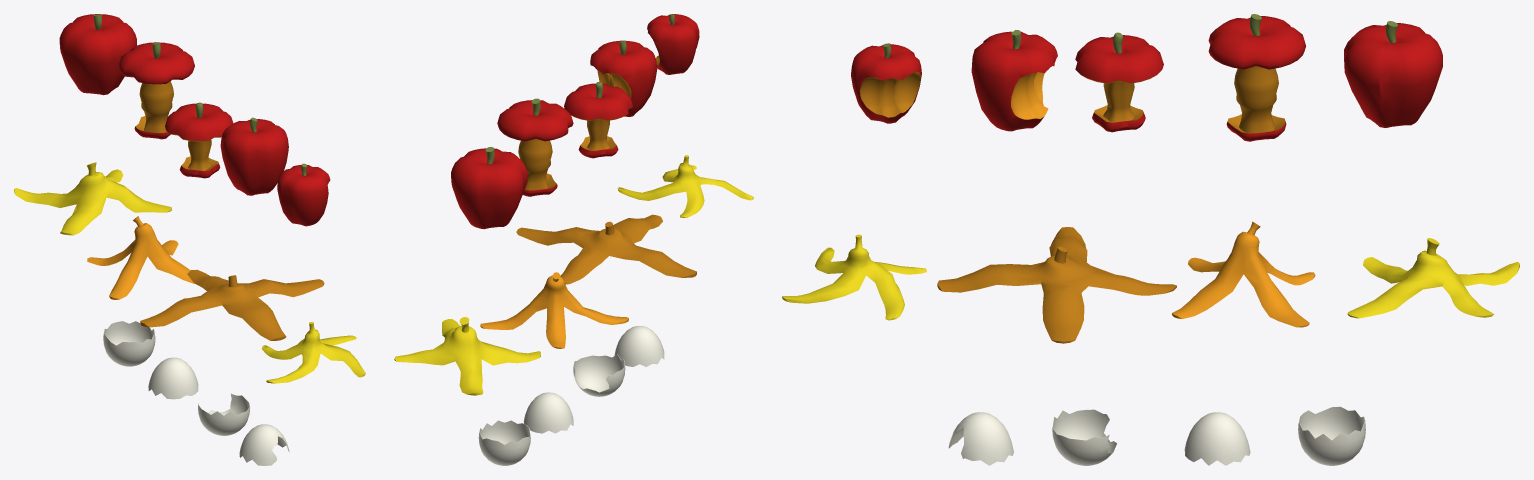
File: Compostables_FBX.fbx
3 renders of one model, left to right at view 1: azimuth 30°, elevation 25°; view 2: azimuth 150°, elevation 25°; view 3: azimuth 270°, elevation 25°, orthographic. The views are drawn at different scales.
Parts seen in each view (by area): view 1: Banana_02, Sphere.014, Manzana_02, Manzana_04, Banana_04, Manzana_03, Banana_03, Manzana_01, Banana_01, Huevon_04, Huevon_03, Huevon_01 (+1 smaller); view 2: Sphere.014, Banana_02, Manzana_04, Banana_04, Manzana_02, Manzana_03, Banana_03, Manzana_01, Banana_01, Huevon_04, Huevon_02, Huevon_03 (+1 smaller); view 3: Sphere.014, Banana_02, Manzana_04, Manzana_02, Manzana_03, Banana_03, Banana_04, Manzana_01, Banana_01, Huevon_04, Huevon_02, Huevon_03 (+1 smaller).
Boxes of the visible parts, bbox=[...] form: Banana_02: bbox=[140, 269, 324, 340]; Sphere.014: bbox=[59, 14, 136, 95]; Manzana_02: bbox=[220, 117, 288, 195]; Manzana_04: bbox=[118, 42, 194, 139]; Banana_04: bbox=[14, 162, 171, 235]; Manzana_03: bbox=[165, 102, 233, 178]; Banana_03: bbox=[87, 216, 194, 299]; Manzana_01: bbox=[277, 163, 330, 226]; Banana_01: bbox=[262, 322, 365, 383]; Huevon_04: bbox=[103, 321, 155, 366]; Huevon_03: bbox=[148, 357, 198, 399]; Huevon_01: bbox=[239, 424, 289, 465]; Sphere.014: bbox=[451, 147, 527, 229]; Banana_02: bbox=[516, 214, 696, 284]; Manzana_04: bbox=[497, 98, 573, 196]; Banana_04: bbox=[394, 317, 540, 395]; Manzana_02: bbox=[590, 40, 657, 116]; Manzana_03: bbox=[564, 81, 632, 158]; Banana_03: bbox=[480, 272, 628, 348]; Manzana_01: bbox=[647, 14, 699, 74]; Banana_01: bbox=[617, 155, 753, 217]; Huevon_04: bbox=[478, 420, 530, 465]; Huevon_02: bbox=[573, 354, 625, 396]; Huevon_03: bbox=[523, 392, 573, 433]; Sphere.014: bbox=[1344, 21, 1442, 127]; Banana_02: bbox=[937, 227, 1176, 343]; Manzana_04: bbox=[1208, 14, 1305, 141]; Manzana_02: bbox=[971, 30, 1057, 131]; Manzana_03: bbox=[1075, 32, 1163, 132]; Banana_03: bbox=[1172, 221, 1315, 327]; Banana_04: bbox=[1347, 238, 1519, 318]; Manzana_01: bbox=[851, 43, 921, 123]; Banana_01: bbox=[782, 234, 926, 320]; Huevon_04: bbox=[1298, 406, 1365, 465]; Huevon_02: bbox=[1052, 409, 1117, 465]; Huevon_03: bbox=[1184, 412, 1250, 465].
Bounding box in the file's own units: 0.6441 × 1.18 × 1.76.
